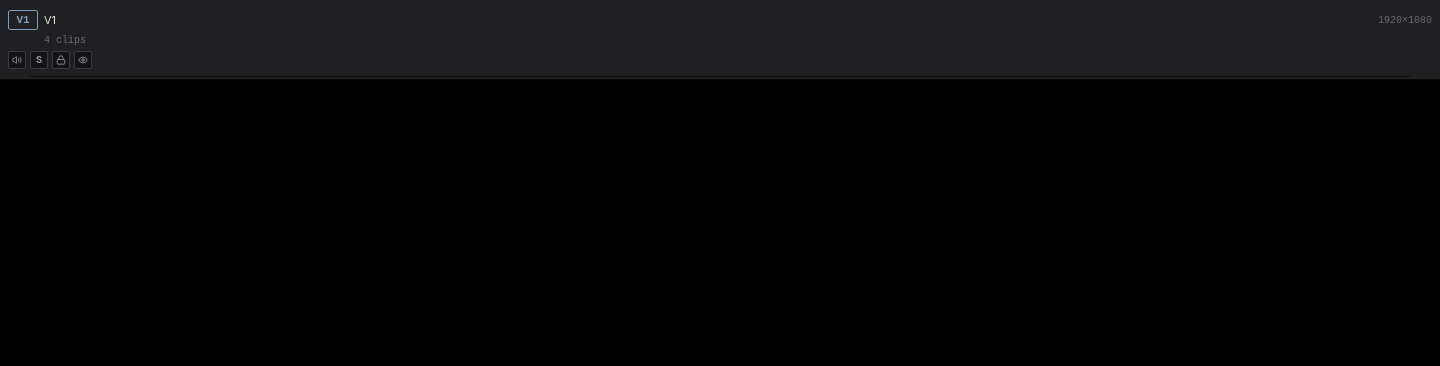
TrackHeader › the §4.9 header menu: direct Mute/Solo/Lock entries mirror the buttons (spec 18 §4.9)
Right-click the element with test id "shell-track-header-tr-main".
right_click(720, 40)  # box 0,0 -> 1439,80
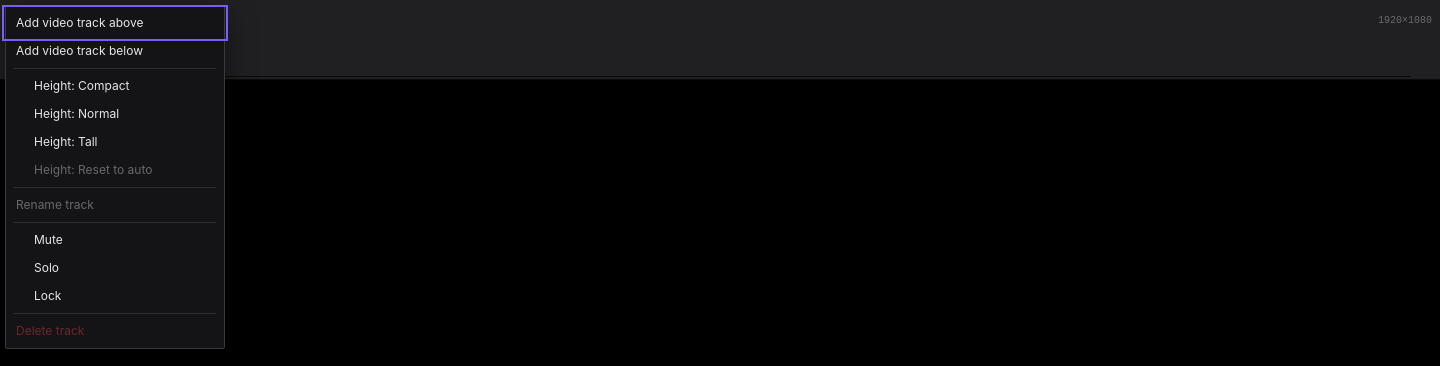
Now the menu with test id "shell-menu-track" is shown, box 5,5 -> 225,349
Click the menu item with test id "shell-menu-track-mute".
click(115, 240)  # box 6,226 -> 224,254
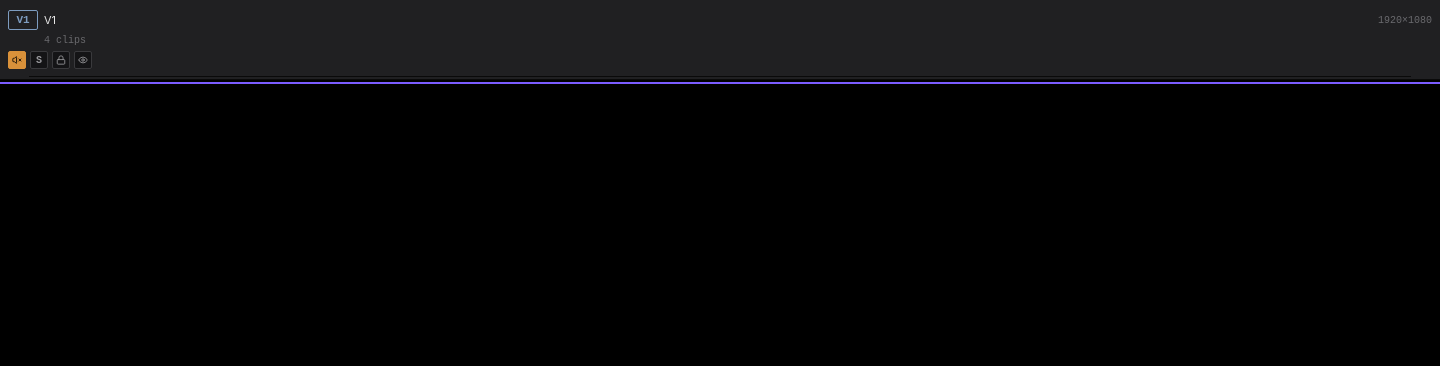
Now the menu with test id "shell-menu-track" is gone
